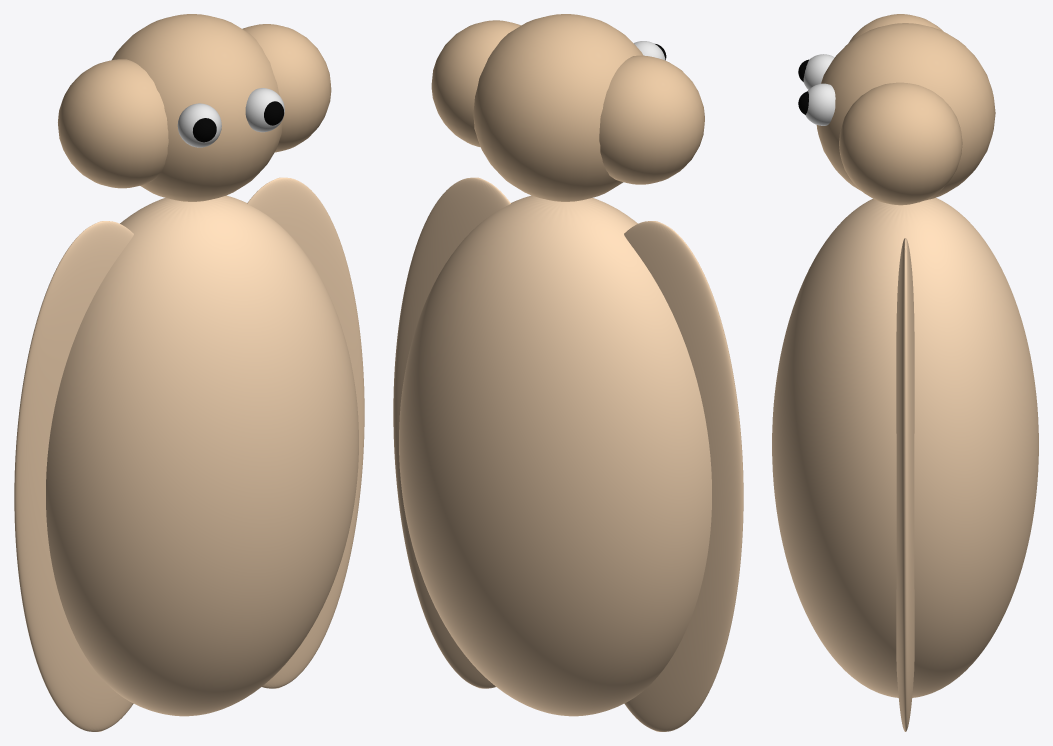
File: baymax3.glb
3 views of the same model, side by side, from view 1: azimuth 30°, elevation 25°; view 2: azimuth 150°, elevation 25°; view 3: azimuth 270°, elevation 25° (orthographic). The views are drawn at different scales.
Parts seen in each view (by area): view 1: Body, Body.001, Head, Head.003, Body.002, Head.004, Head.001, Head.002; view 2: Body, Body.001, Head, Head.003, Body.002, Head.004; view 3: Body, Head, Head.004, Body.002, Head.002, Head.003, Head.001.
Boxes of the visible parts, x1,y1,x2,y2 form: Body: (46, 195, 358, 716); Body.001: (14, 221, 133, 731); Head: (112, 14, 282, 201); Head.003: (58, 59, 168, 188); Body.002: (247, 177, 364, 688); Head.004: (242, 24, 331, 152); Head.001: (177, 103, 221, 147); Head.002: (245, 88, 284, 132); Body: (399, 195, 711, 716); Body.001: (624, 221, 743, 731); Head: (473, 14, 643, 201); Head.003: (599, 55, 704, 184); Body.002: (393, 177, 510, 688); Head.004: (431, 20, 520, 147); Body: (772, 197, 1038, 697); Head: (816, 23, 995, 200); Head.004: (839, 82, 962, 205); Body.002: (896, 238, 914, 731); Head.002: (805, 83, 835, 125); Head.003: (848, 14, 943, 43); Head.001: (803, 54, 834, 89).
Size of the model in its own units: 2.29 by 4.29 by 1.58.
